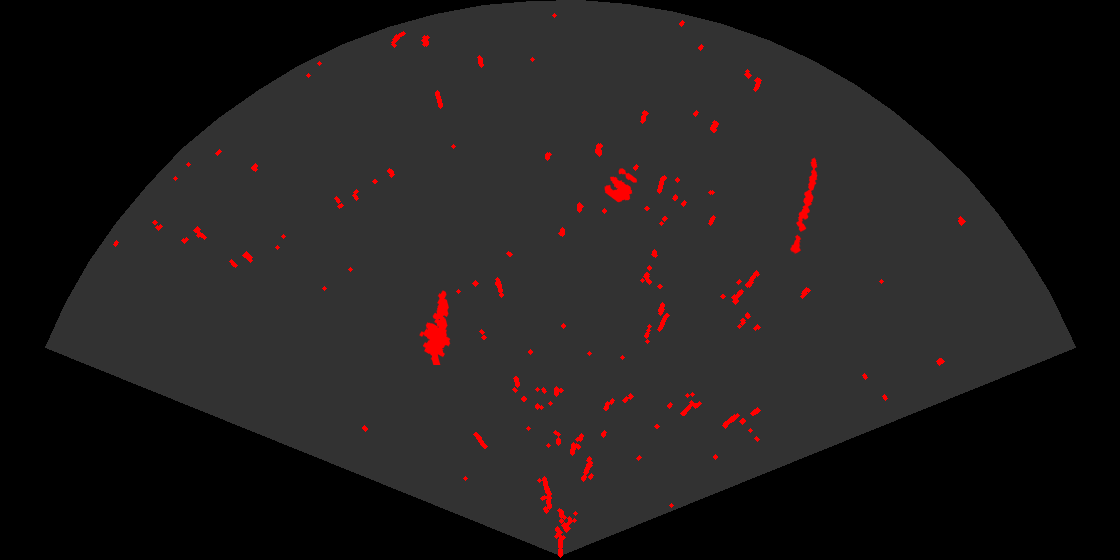ball: (603, 167, 639, 204)
chain: (789, 156, 819, 256)
frogman: (418, 289, 452, 365)
